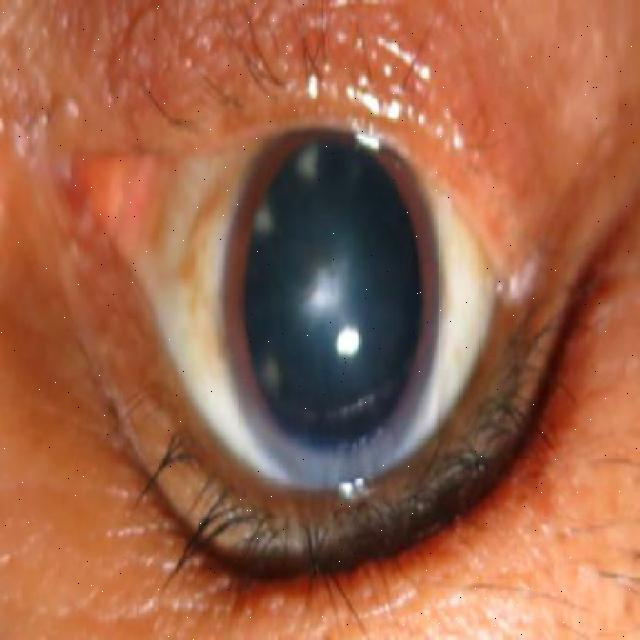Cataract: (220, 111, 436, 490)
